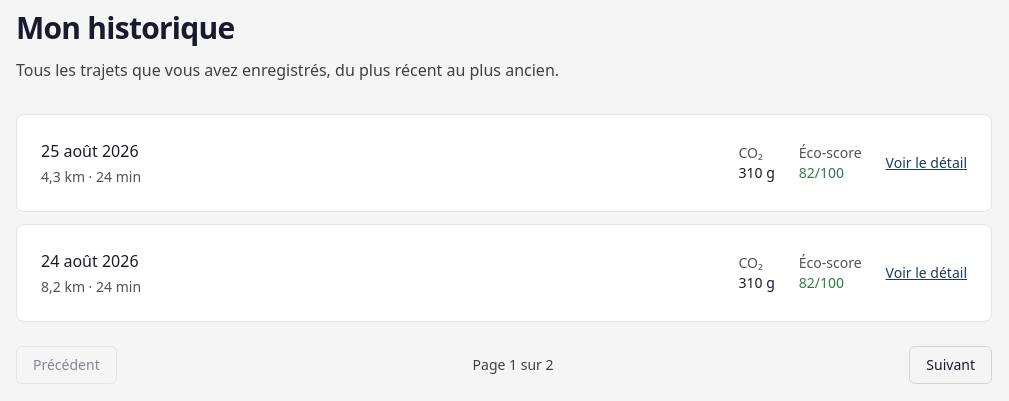
Scenario: /historique › pagination › charge la page suivante au clic
expect the text "Page 1 sur 2" is shown: met, box [473, 355, 554, 375]
What coordinates should you click on to do the following:
click the button "Suivant"
I would click on:
 (951, 365)
Its box is [909, 346, 992, 384].
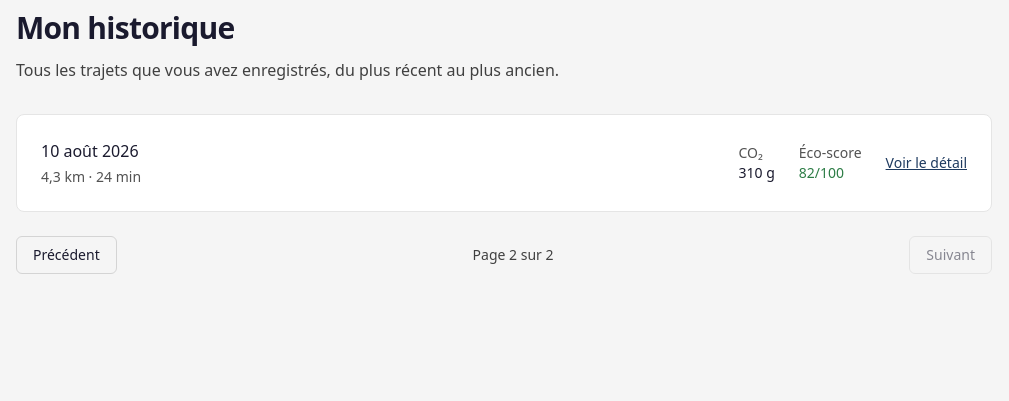
expect the text "Page 2 sur 2" is shown: met, box [473, 245, 554, 265]
